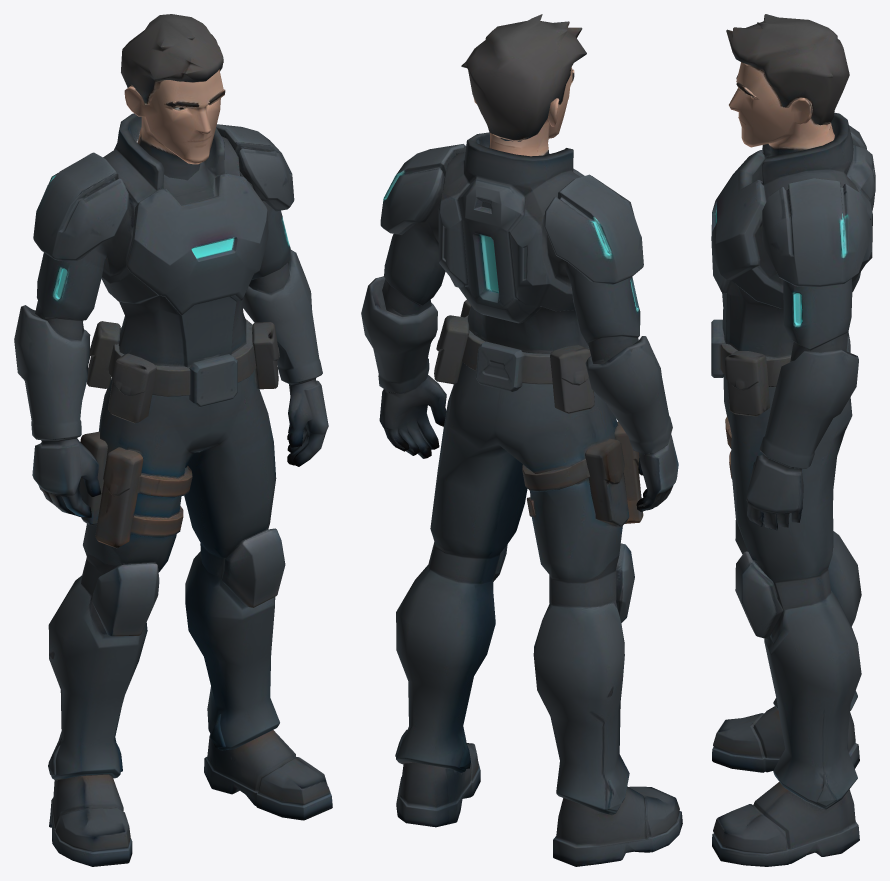
Rendered from futuristic_armor_3d_model.fbx.
The picture shows the model from 3 angles, left to right: view 1: azimuth 30°, elevation 25°; view 2: azimuth 150°, elevation 25°; view 3: azimuth 270°, elevation 25°; orthographic projection.
Visible parts, largest first — view 1: tripo_node_556cc87a; view 2: tripo_node_556cc87a; view 3: tripo_node_556cc87a.
Part boxes in pixels (bbox=[...]): tripo_node_556cc87a: bbox=[14, 14, 332, 866]; tripo_node_556cc87a: bbox=[361, 14, 682, 866]; tripo_node_556cc87a: bbox=[711, 14, 875, 866].
Bounding box in the file's own units: 0.3755 × 0.9995 × 0.1899.
